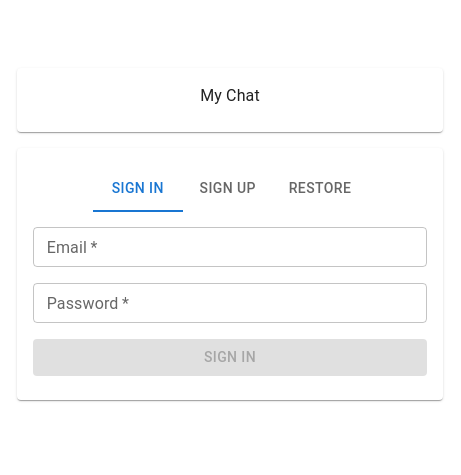
Scenario: SignUpForm › Submit button is disabled
Click the tab with test id "tab_btn-2": (228, 188) [183, 164, 273, 212]
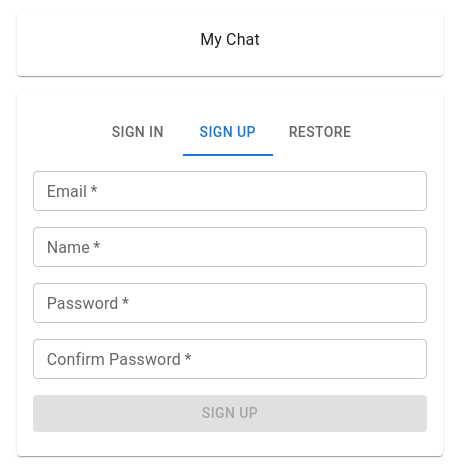
Expected: the button with test id "submit-btn" is disabled, [33, 395, 427, 432]
Result: the form with test id "sign-up-form" is shown at [33, 171, 427, 432]
